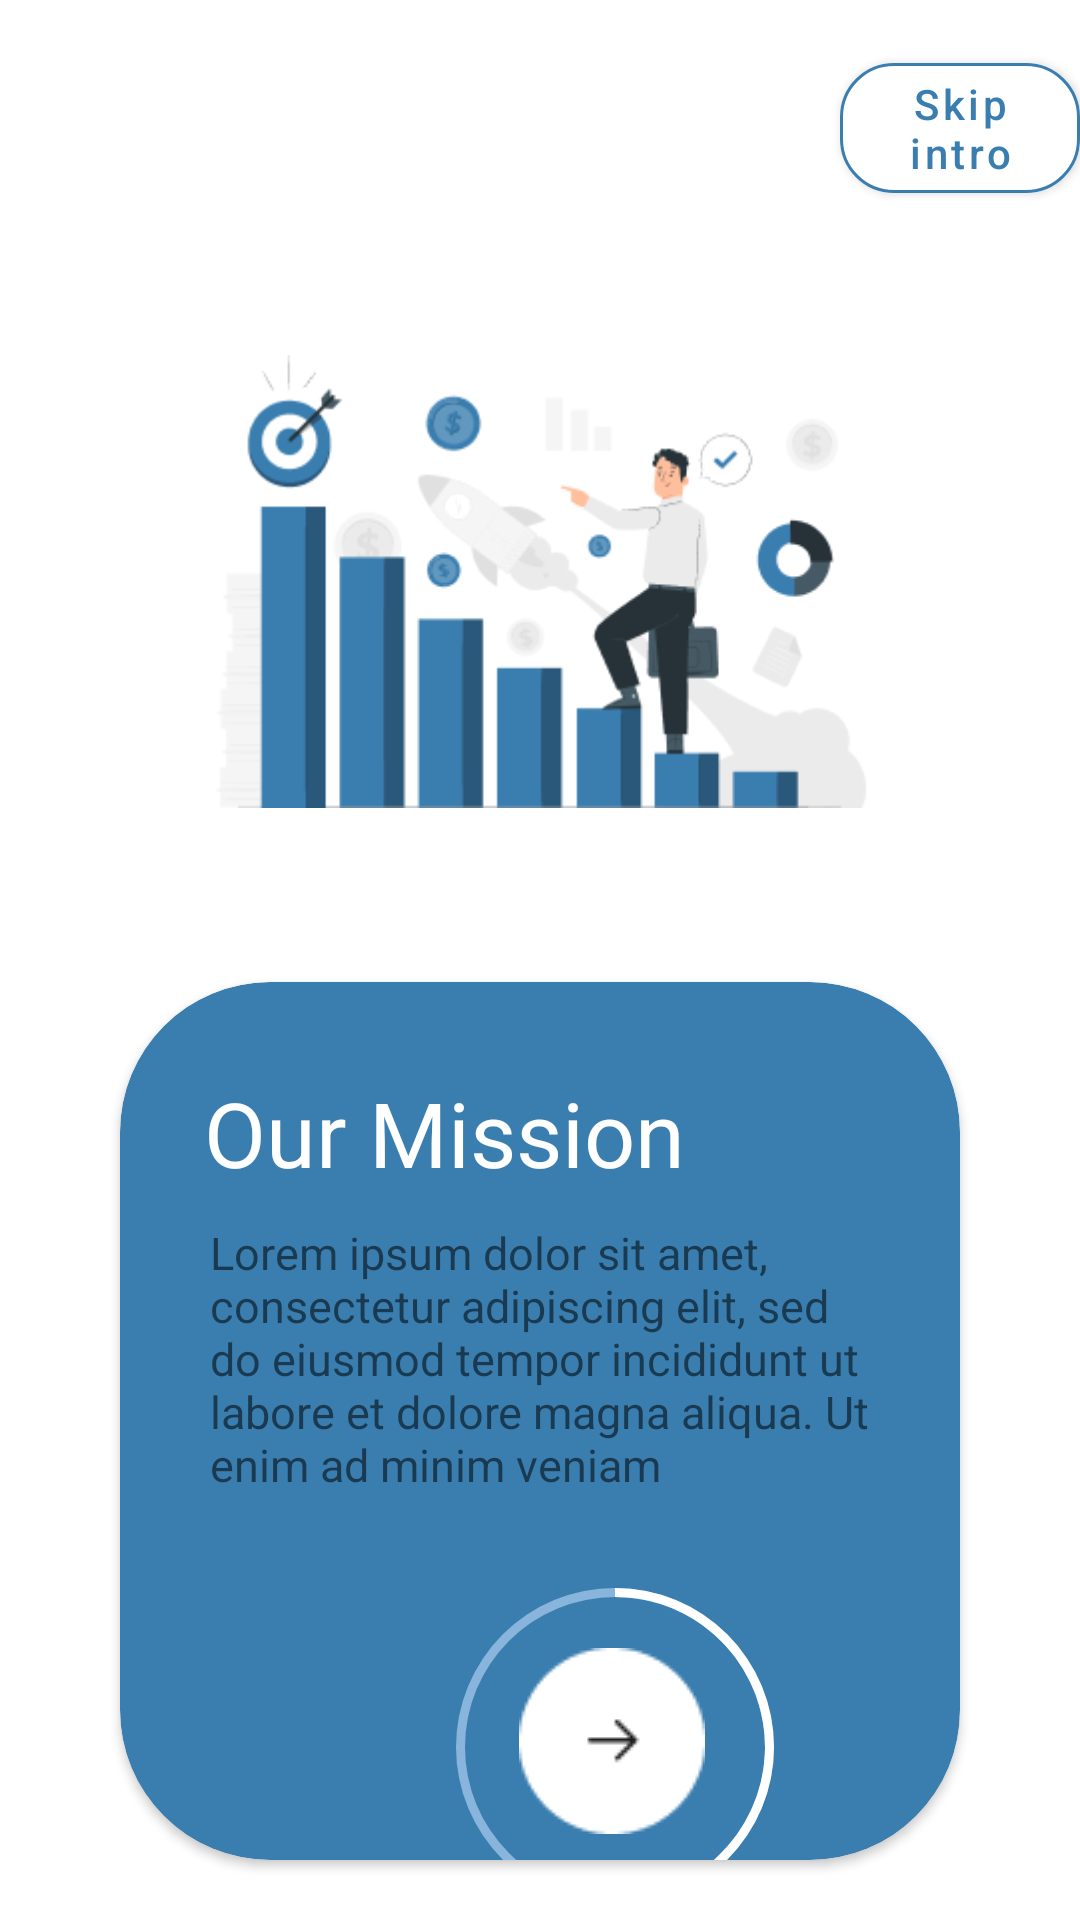

Locate icon controls on the screen. Image size 1080 × 1920, boxes as box=[x1, y1, x2, y2].
circle: box=[519, 1648, 705, 1834]
